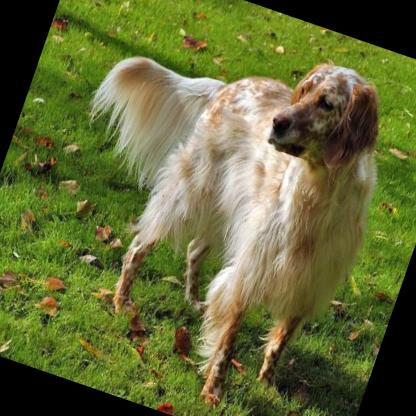English_setter: (6, 0, 416, 416)
